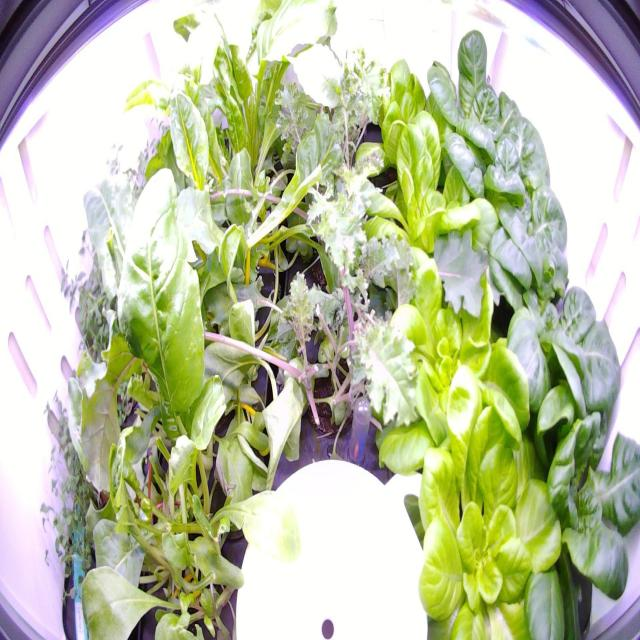young: (354, 204, 549, 494), (400, 348, 566, 638), (470, 225, 624, 450), (437, 115, 587, 328), (520, 372, 640, 628), (344, 105, 494, 298), (416, 21, 549, 198), (349, 36, 444, 190)
